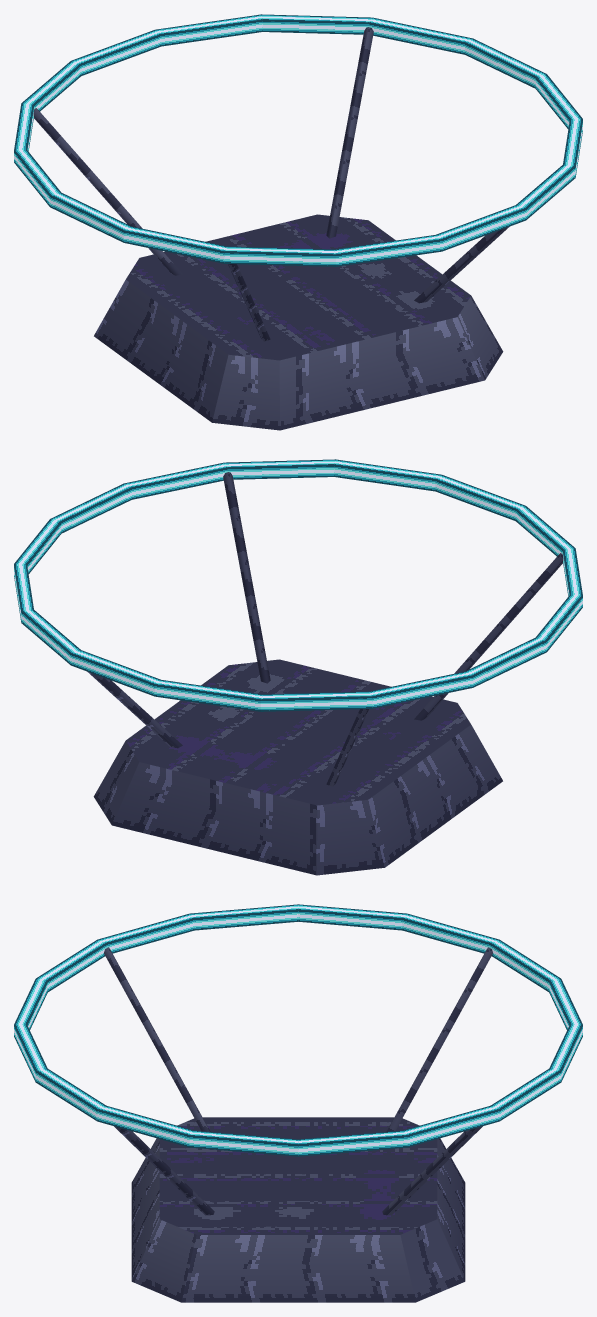
Rendered from cytower.crown.glb.
The picture shows the model from 3 angles, top to bottom: view 1: azimuth 30°, elevation 25°; view 2: azimuth 150°, elevation 25°; view 3: azimuth 270°, elevation 25°; orthographic projection.
Visible parts, largest first — view 1: kit_plinth, kit_halo; view 2: kit_plinth, kit_halo; view 3: kit_plinth, kit_halo.
Part boxes in pixels (x1,y1,x2,y2): kit_plinth: (33, 27, 509, 430); kit_halo: (14, 14, 582, 266); kit_plinth: (87, 472, 563, 875); kit_halo: (14, 459, 582, 711); kit_plinth: (104, 947, 492, 1302); kit_halo: (14, 904, 582, 1156).
Bounding box in the file's own units: 9.21 × 3.71 × 9.21.
Materials: 4 (4 with a texture image).
